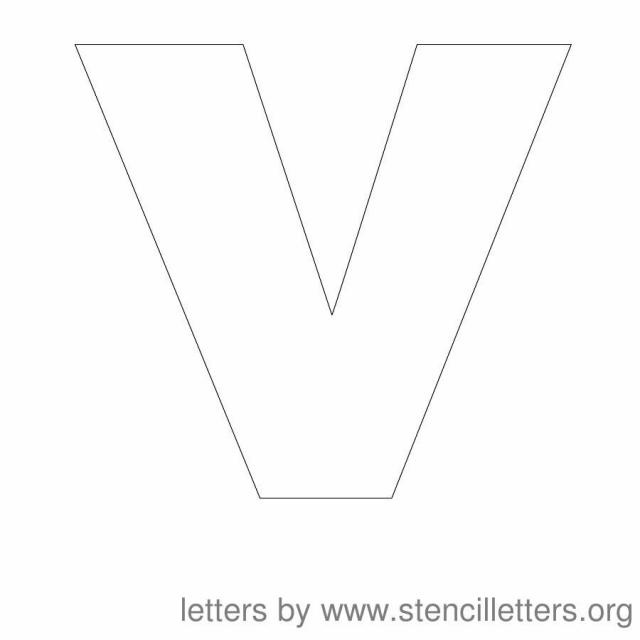V: (38, 13, 596, 559)
